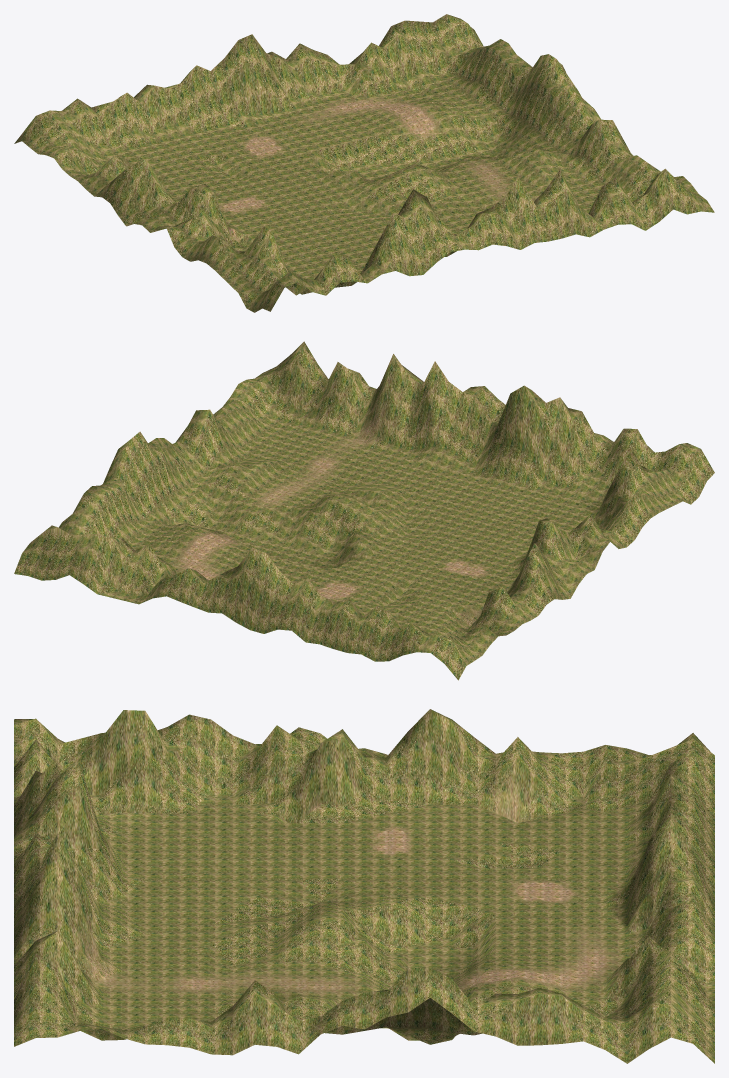
3 views of the same model, one above another, from view 1: azimuth 30°, elevation 25°; view 2: azimuth 150°, elevation 25°; view 3: azimuth 270°, elevation 25° (orthographic). The views are drawn at different scales.
Visible parts, largest first — view 1: Mesh; view 2: Mesh; view 3: Mesh.
Boxes of the visible parts, left/top/right/bottom form: Mesh: left=14, top=14, right=714, bottom=312; Mesh: left=14, top=341, right=714, bottom=680; Mesh: left=14, top=709, right=714, bottom=1063.
Bounding box in the file's own units: 100 × 22.12 × 100.
Materials: 1 (1 with a texture image).
